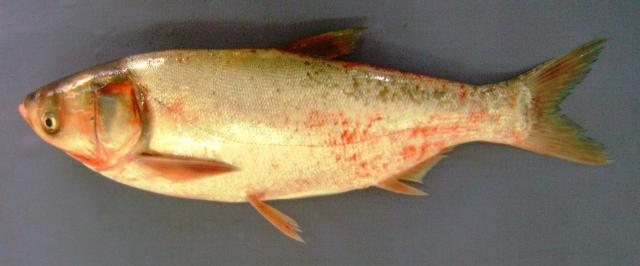Mulut: (14, 82, 58, 148)
Sirip Anal: (360, 123, 462, 205)
Sirip Dada: (138, 143, 242, 201)
Sirip Ekor: (504, 21, 628, 181)
Sirip Perut: (236, 184, 318, 249)
Sirip Punggung: (271, 16, 379, 74)
